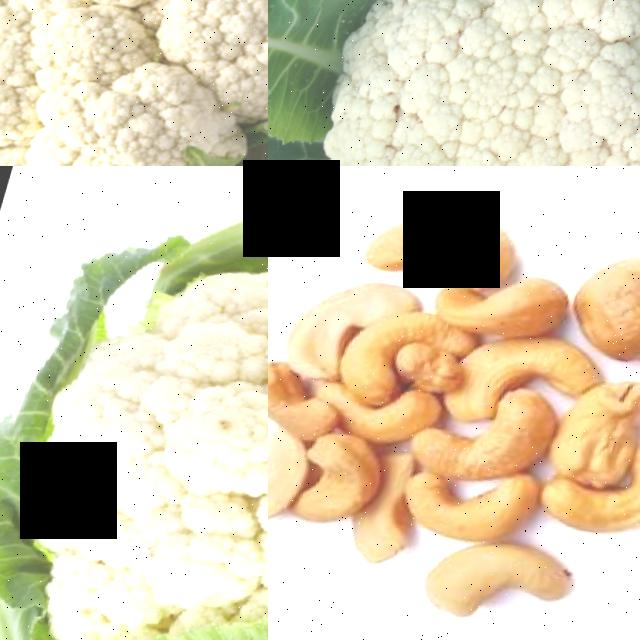cashew: (345, 169, 553, 317), (417, 534, 589, 640), (451, 329, 608, 438), (268, 258, 372, 388), (286, 439, 390, 561), (431, 410, 555, 504), (413, 466, 538, 553), (564, 237, 640, 376), (558, 378, 640, 492), (346, 490, 423, 589), (355, 389, 442, 471), (268, 368, 359, 444), (268, 427, 316, 570), (334, 323, 411, 398)
cauliflower: (0, 166, 268, 640), (268, 0, 640, 166), (0, 0, 268, 166)
